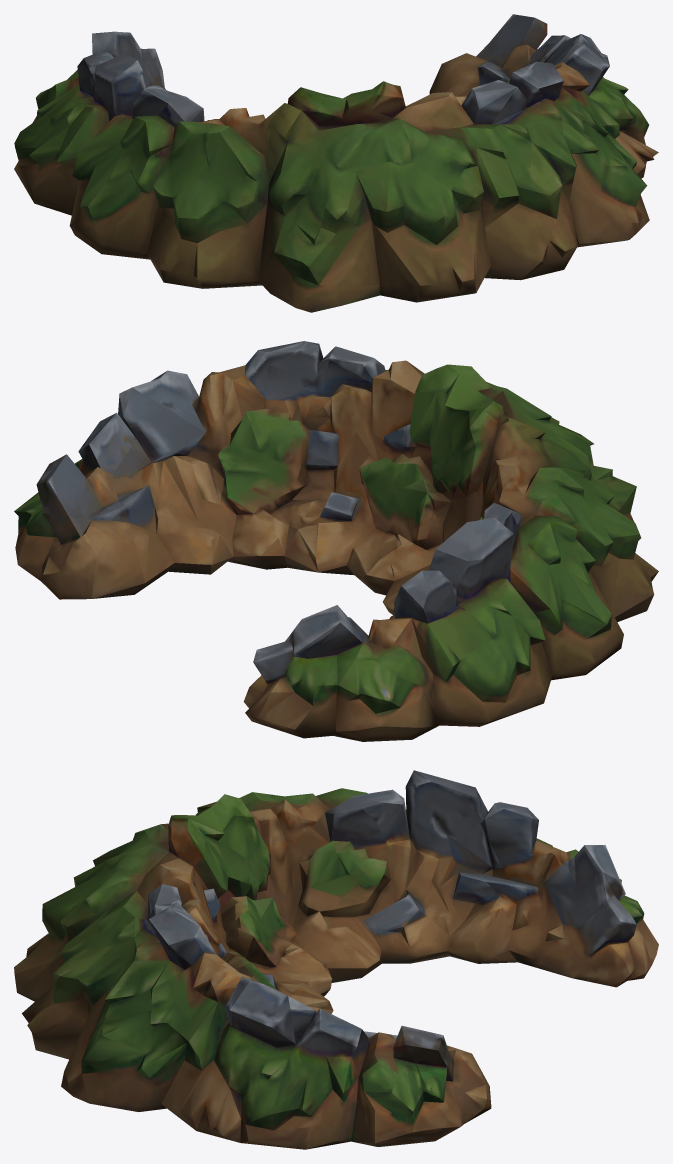
3 renders of one model, top to bottom at view 1: azimuth 30°, elevation 25°; view 2: azimuth 150°, elevation 25°; view 3: azimuth 270°, elevation 25°, orthographic. The views are drawn at different scales.
Parts seen in each view (by area): view 1: impact_scar; view 2: impact_scar; view 3: impact_scar.
Part boxes in pixels (<box>): impact_scar: <box>14,14,658,312</box>; impact_scar: <box>14,341,658,741</box>; impact_scar: <box>14,770,658,1149</box>.
Size of the model in its own units: 0.9799 by 0.3005 by 0.9771.
1 material, 1 textured.
